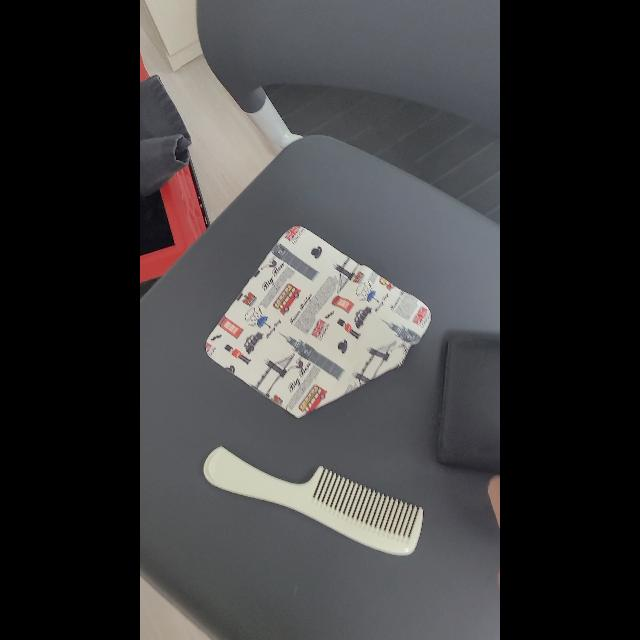COMB: (203, 446, 423, 556)
Glasses cleaning cloth: (205, 226, 431, 418)
WALLET: (436, 332, 499, 472)
